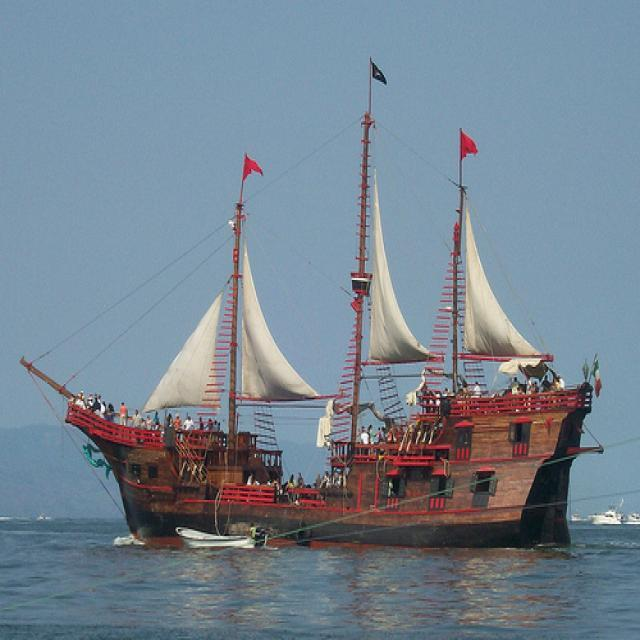Ship: (46, 115, 586, 551)
